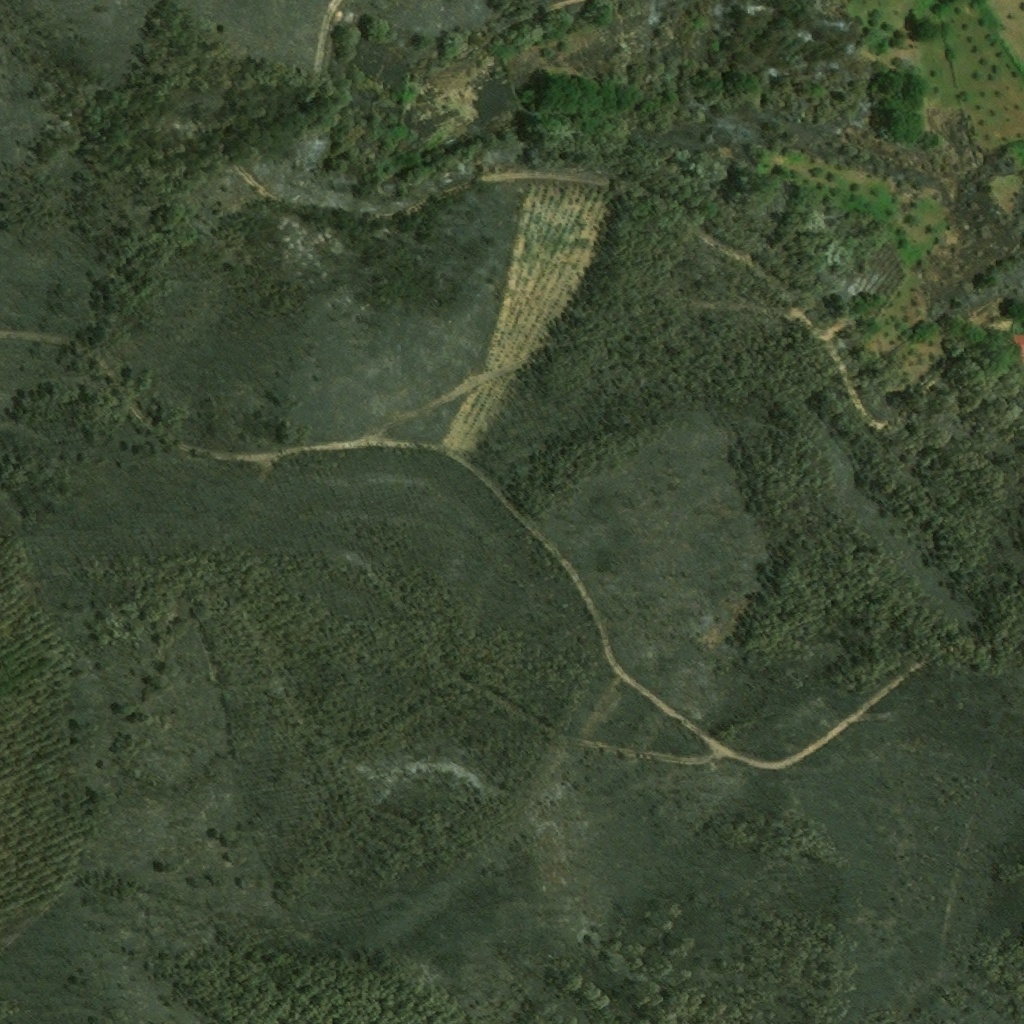4 un-classified: (1011, 334, 1023, 368)
